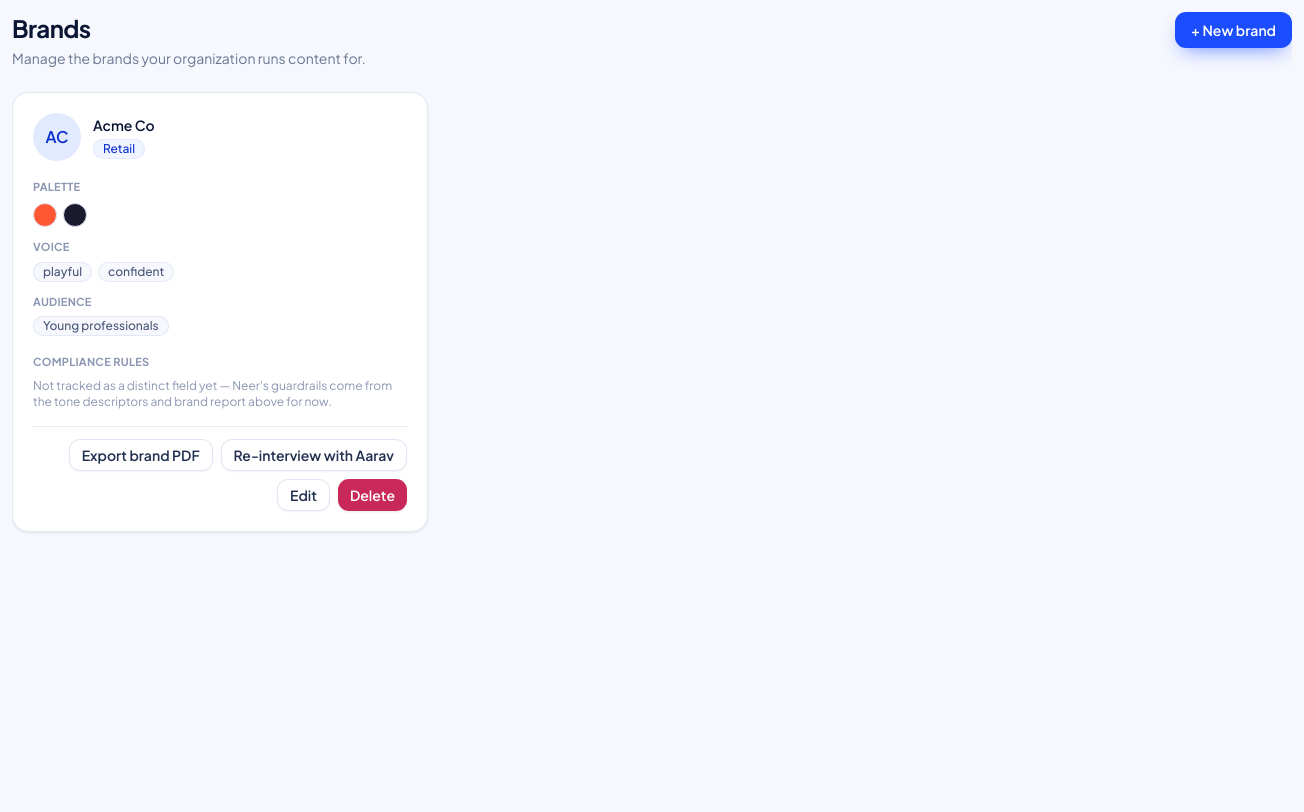
BrandsPage › deletes a brand after confirmation and removes it from the list
Click the button "Delete" at (372, 495), box [338, 479, 407, 511]
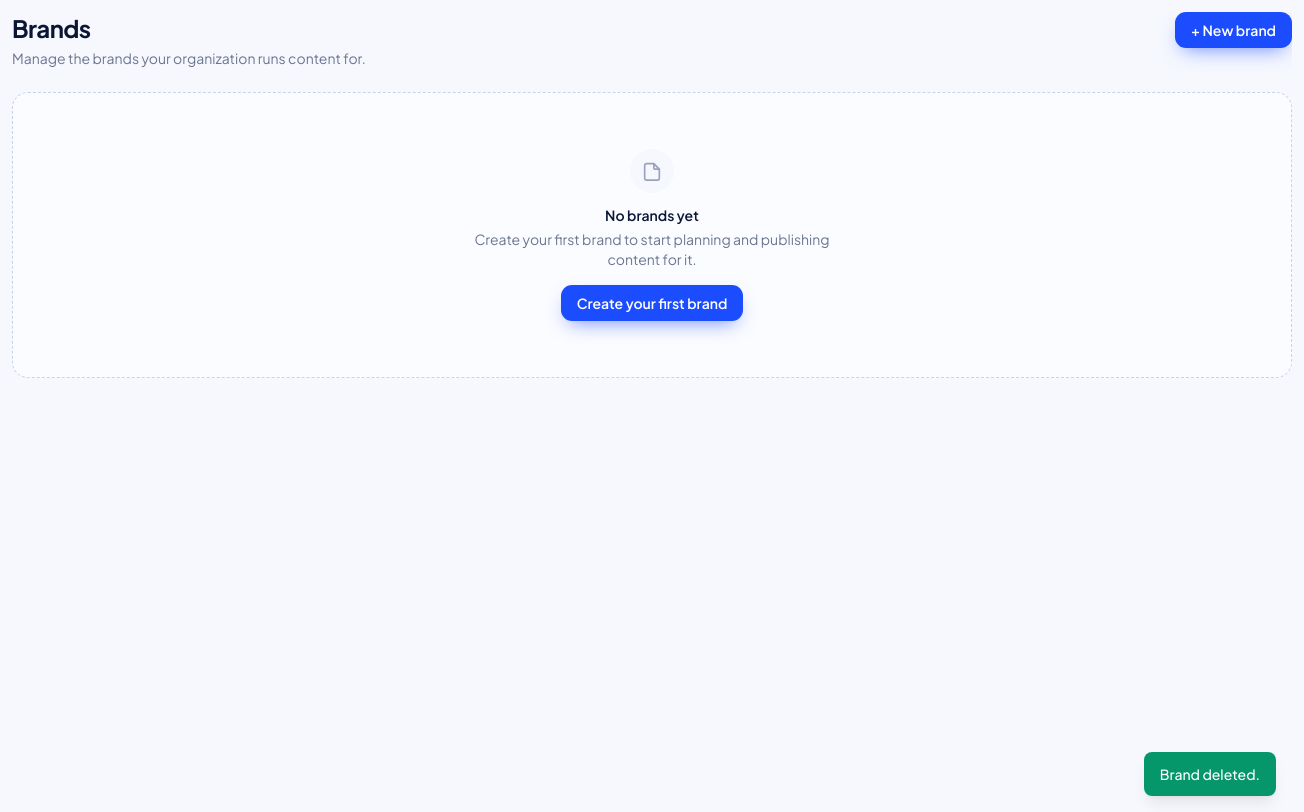
Expected: the heading "Acme Co" is gone
